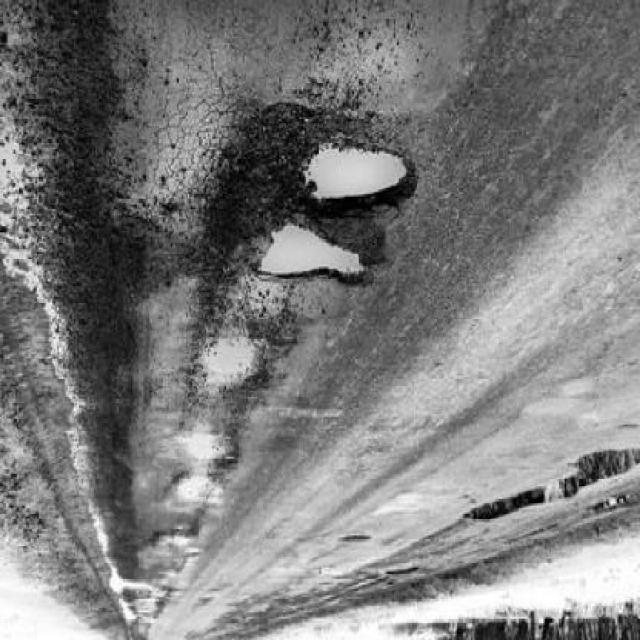pothole: (245, 220, 380, 305), (302, 119, 418, 216), (193, 330, 273, 410), (175, 426, 243, 474)
